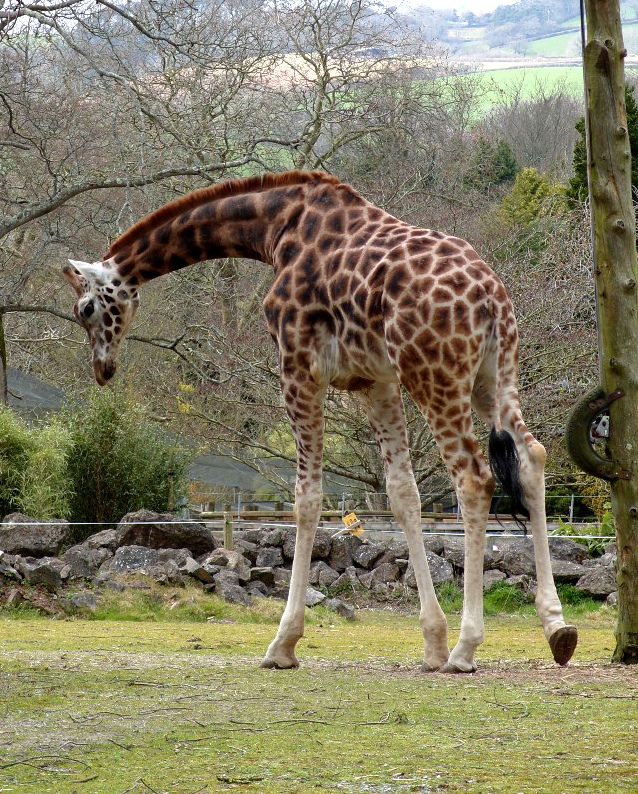giraffe: (62, 174, 597, 692)
